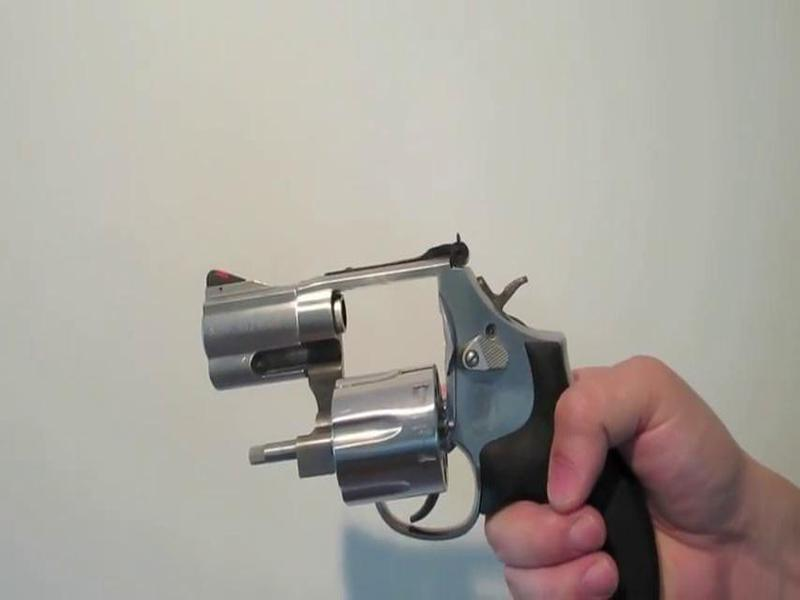Revolver: (192, 213, 678, 600)
